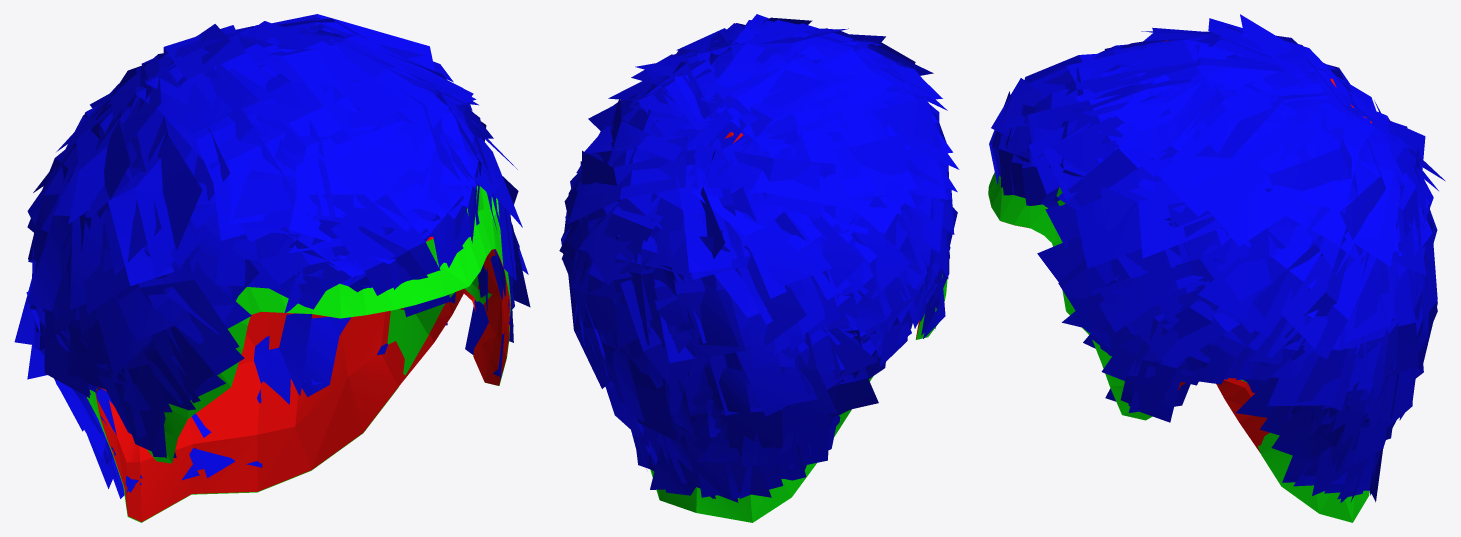
File: hair_010.obj
The picture shows the model from 3 angles, left to right: view 1: azimuth 30°, elevation 25°; view 2: azimuth 150°, elevation 25°; view 3: azimuth 270°, elevation 25°; orthographic projection. The views are drawn at different scales.
Bounding box in the file's own units: 18.47 × 21.4 × 19.47.
